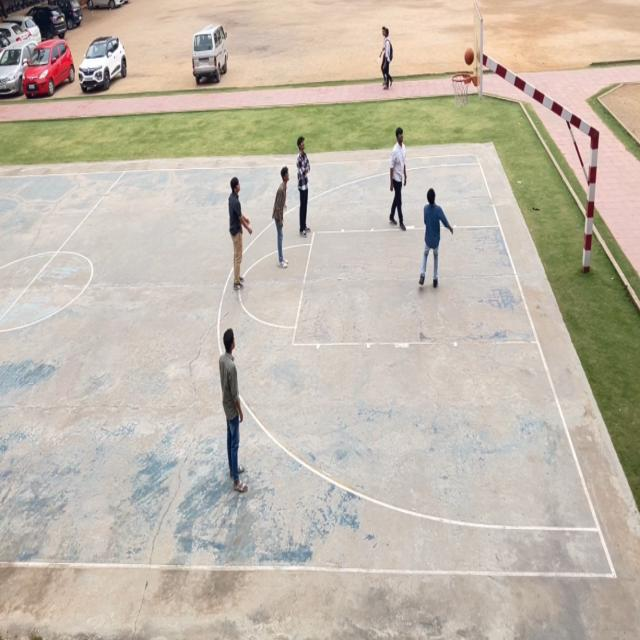basketball: (464, 47, 475, 67)
hoop: (451, 73, 471, 108)
